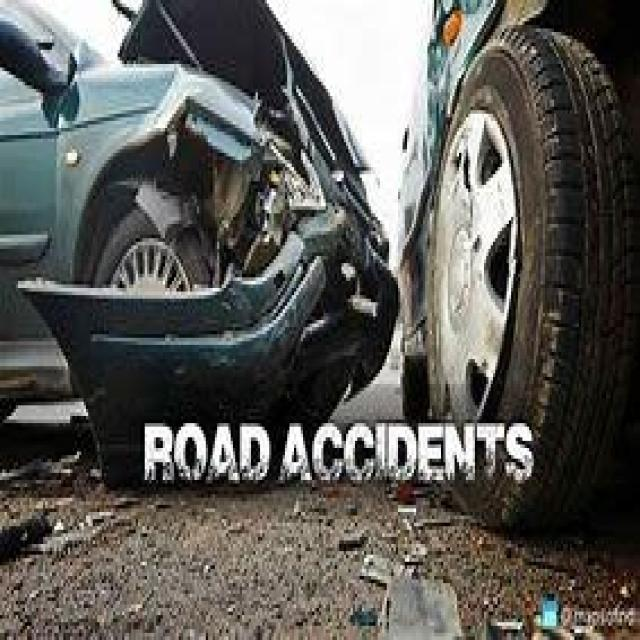Nguy hiểm: (1, 0, 634, 533)
